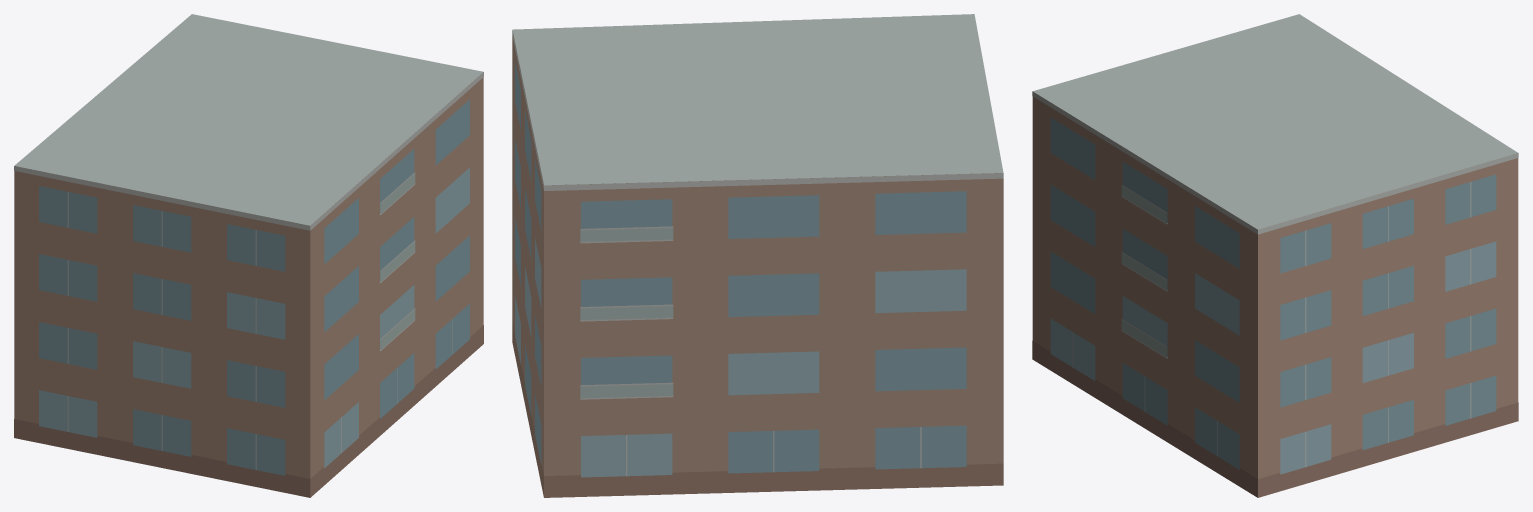
Rendered from survey-upis-32815805.glb.
3 renders of one model, left to right at view 1: azimuth 30°, elevation 25°; view 2: azimuth 150°, elevation 25°; view 3: azimuth 270°, elevation 25°, orthographic. The views are drawn at different scales.
Visible parts, largest first — view 1: survey-upis-32815805.tmp; view 2: survey-upis-32815805.tmp; view 3: survey-upis-32815805.tmp.
Part boxes in pixels (x1=…): survey-upis-32815805.tmp: x1=14, y1=14, x2=483, y2=497; survey-upis-32815805.tmp: x1=512, y1=14, x2=1003, y2=497; survey-upis-32815805.tmp: x1=1032, y1=14, x2=1518, y2=497.
Size of the model in its own units: 22.92 by 13.28 by 21.82.
